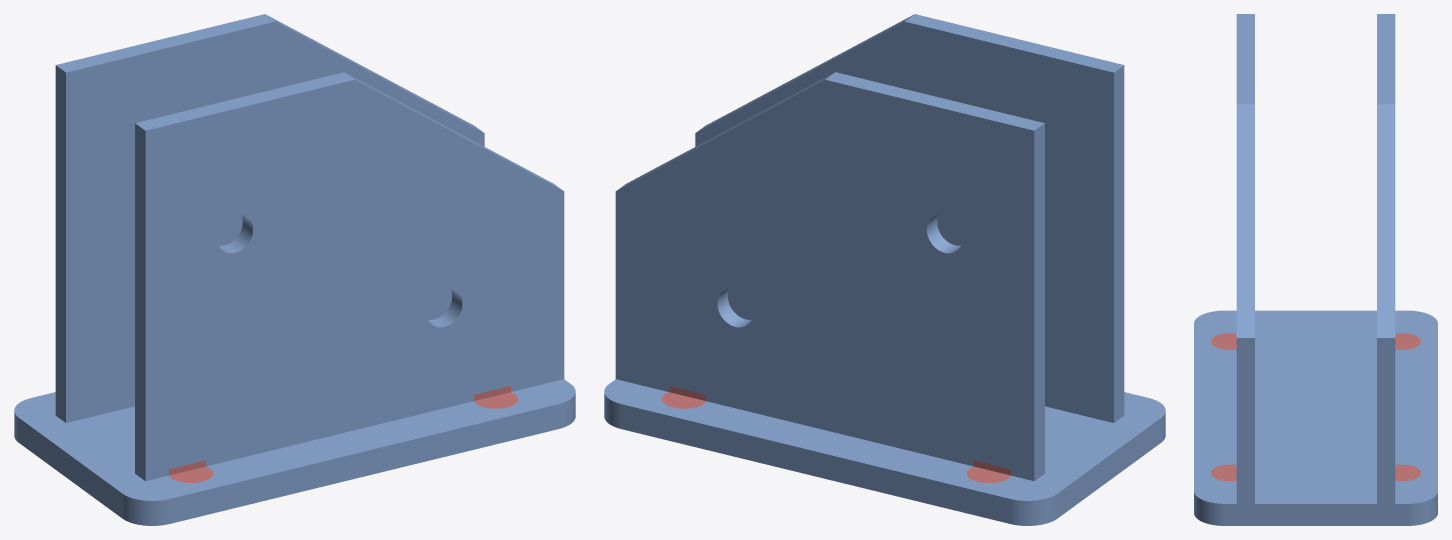
Rendered from step_04.glb.
3 renders of one model, left to right at view 1: azimuth 30°, elevation 25°; view 2: azimuth 150°, elevation 25°; view 3: azimuth 270°, elevation 25°, orthographic. The views are drawn at different scales.
Parts seen in each view (by area): view 1: part__base, removed__base; view 2: part__base, removed__base; view 3: part__base, removed__base.
Boxes of the visible parts, <box> form: part__base: <box>14,14,575,525</box>; removed__base: <box>169,386,518,482</box>; part__base: <box>604,14,1165,525</box>; removed__base: <box>661,386,1010,482</box>; part__base: <box>1194,14,1437,525</box>; removed__base: <box>1211,333,1420,481</box>.
Size of the model in its own units: 75 by 60 by 40.
